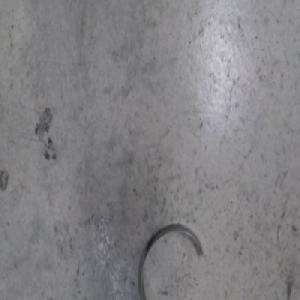AdjustableClamp: (139, 221, 207, 300)
